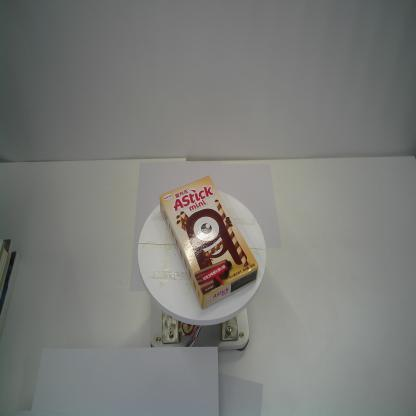Dessert: (158, 171, 260, 312)
